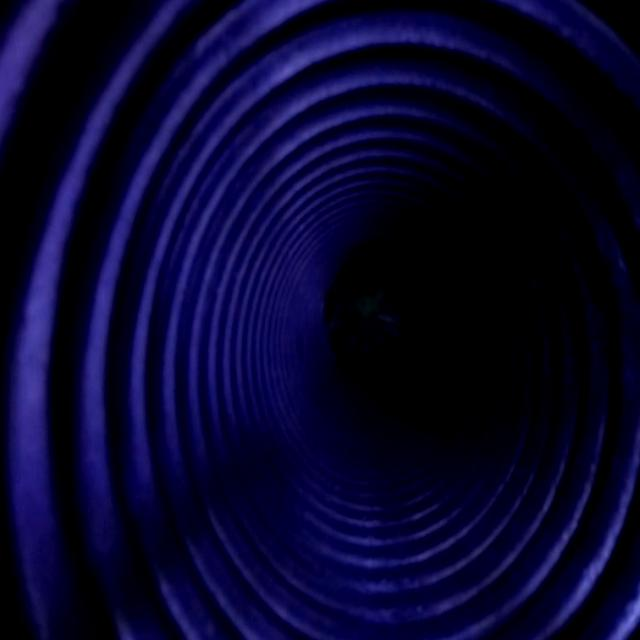leaf: (328, 271, 402, 362)
